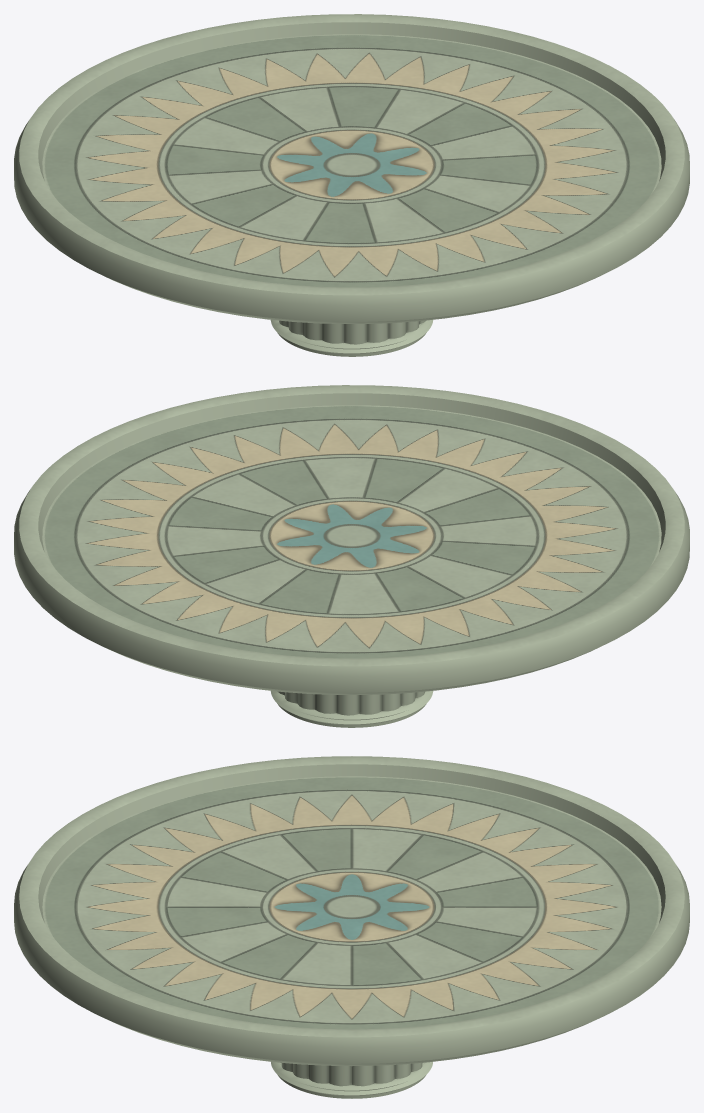
Rendered from Tower_Top.fbx.
3 views of the same model, one above another, from view 1: azimuth 30°, elevation 25°; view 2: azimuth 150°, elevation 25°; view 3: azimuth 270°, elevation 25° (orthographic).
Visible parts, largest first — view 1: Tower_Top; view 2: Tower_Top; view 3: Tower_Top.
Boxes of the visible parts, x1=… form: Tower_Top: x1=14, y1=14, x2=689, y2=356; Tower_Top: x1=14, y1=385, x2=689, y2=727; Tower_Top: x1=14, y1=756, x2=689, y2=1098.
Bounding box in the file's own units: 13.1 × 3.66 × 13.1.
Materials: 1 (1 with a texture image).
